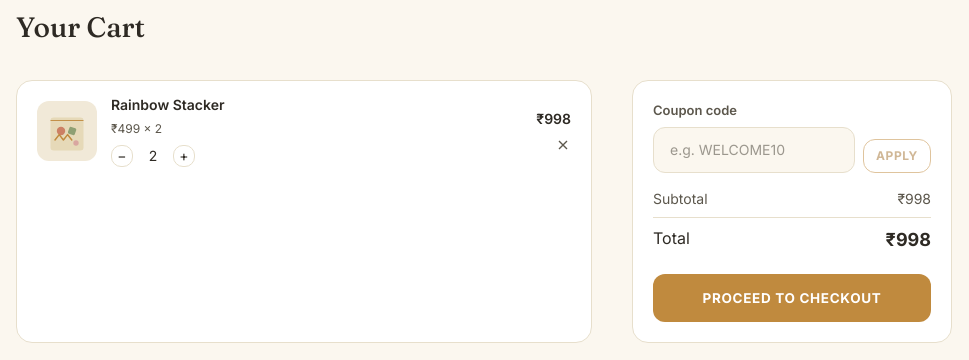
CartPage › recomputes totals when quantity is increased
The width and height of the screenshot is (969, 360).
Check: the text with test id "qty-item_1" reads "2", box [149,147,157,164]
Check: the text with test id "cart-total" reads "₹998", box [886,228,931,250]
Click the button named "increase quantity".
click(184, 156)  # box [173,145,195,167]
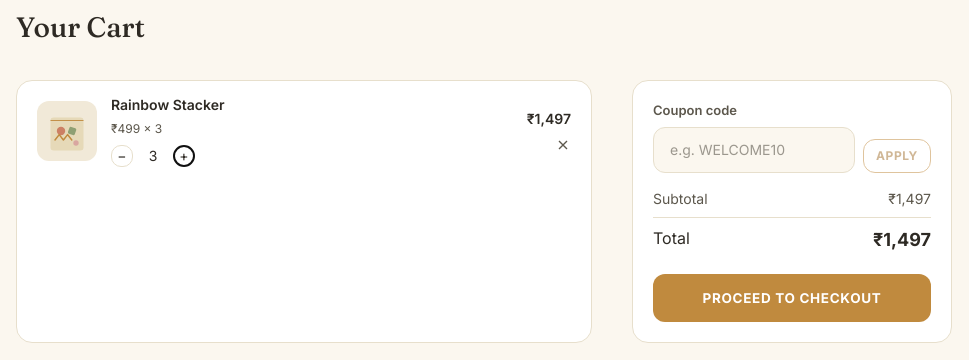
Check: the text with test id "qty-item_1" reads "3", box [149,147,157,164]
Check: the text with test id "cart-total" reads "₹1,497", box [873,228,931,250]
